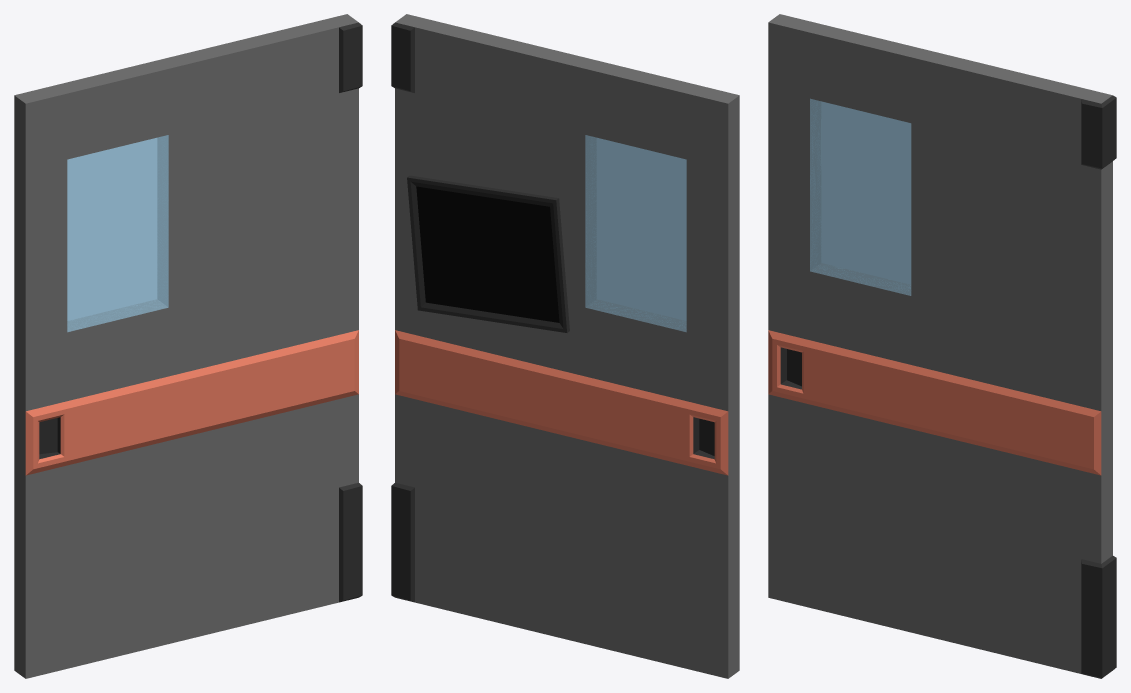
The picture shows the model from 3 angles, left to right: view 1: azimuth 30°, elevation 25°; view 2: azimuth 150°, elevation 25°; view 3: azimuth 330°, elevation 25°; orthographic projection.
Visible parts, largest first — view 1: Door-005, Door-004; view 2: Door-005, BlackBoard002, Door-004; view 3: Door-005, Door-004.
Boxes of the visible parts, x1,y1,x2,y2 form: Door-005: [14, 14, 362, 678]; Door-004: [67, 135, 168, 332]; Door-005: [391, 14, 739, 678]; BlackBoard002: [407, 175, 569, 332]; Door-004: [585, 135, 686, 332]; Door-005: [768, 14, 1116, 678]; Door-004: [810, 98, 911, 295].
Size of the model in its own units: 26.86 by 44 by 2.26.
